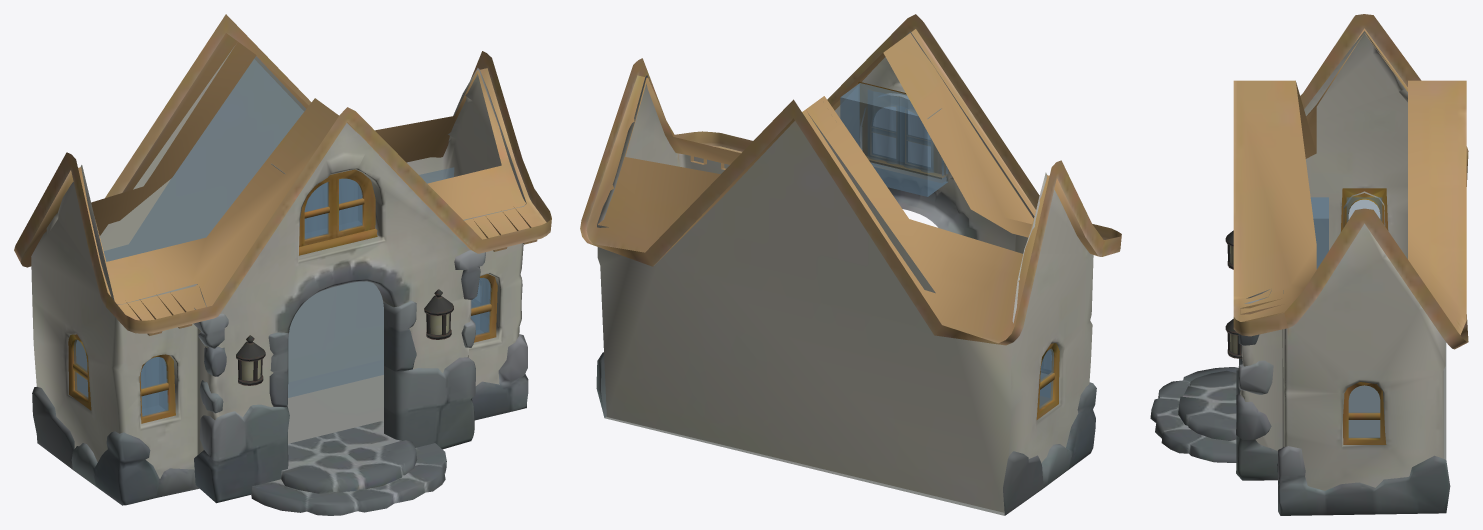
Rendered from wall-pa04-stone.glb.
3 renders of one model, left to right at view 1: azimuth 30°, elevation 25°; view 2: azimuth 150°, elevation 25°; view 3: azimuth 270°, elevation 25°, orthographic. The views are drawn at different scales.
Size of the model in its own units: 48.63 by 40.13 by 32.29.
7 materials, 3 textured.
